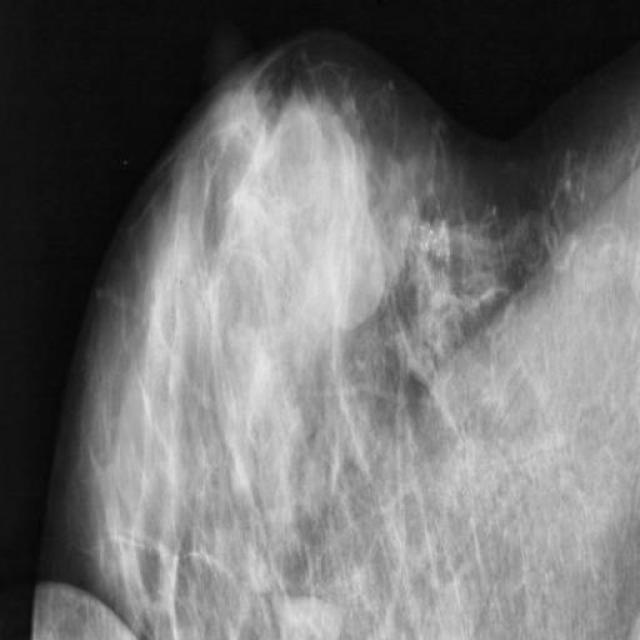cancer: (324, 352, 380, 511)
